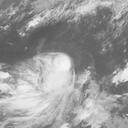cyclone: (37, 51, 75, 90)
